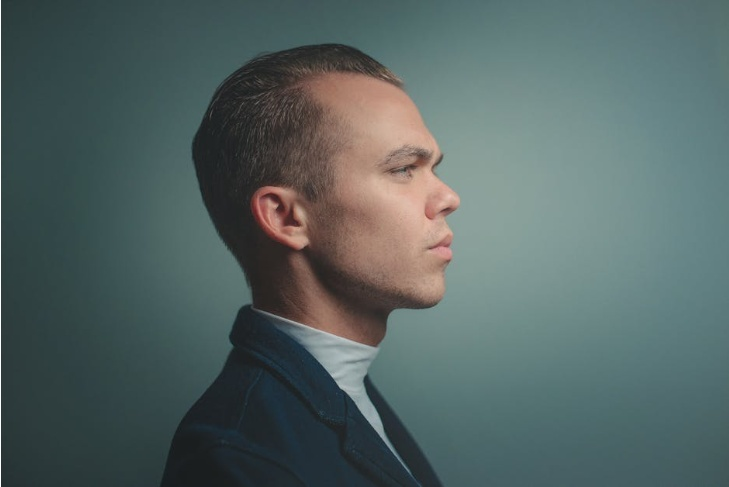face: (318, 75, 461, 308)
